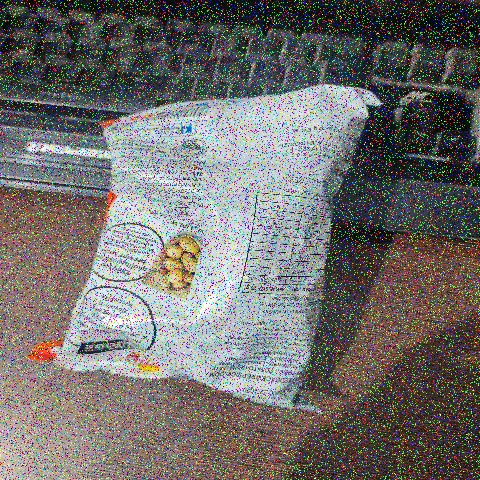lays_orange_pack: (65, 73, 379, 433)
